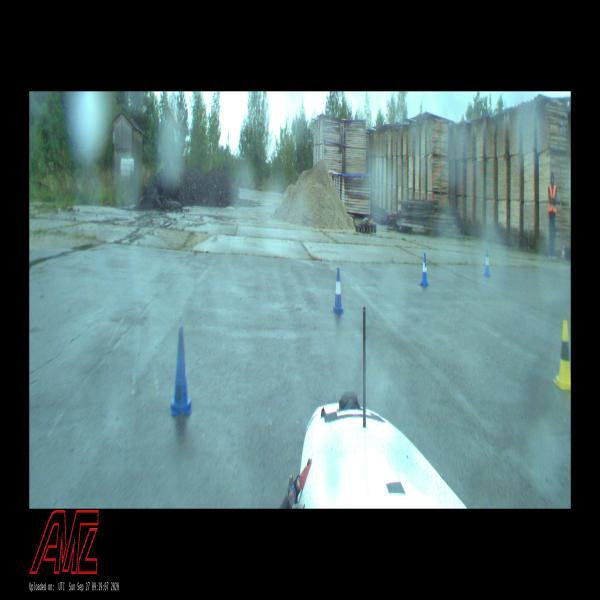blue_cone: (171, 328, 192, 414), (332, 269, 344, 313), (420, 253, 429, 286), (484, 251, 490, 277)
yellow_cone: (553, 321, 571, 391)
